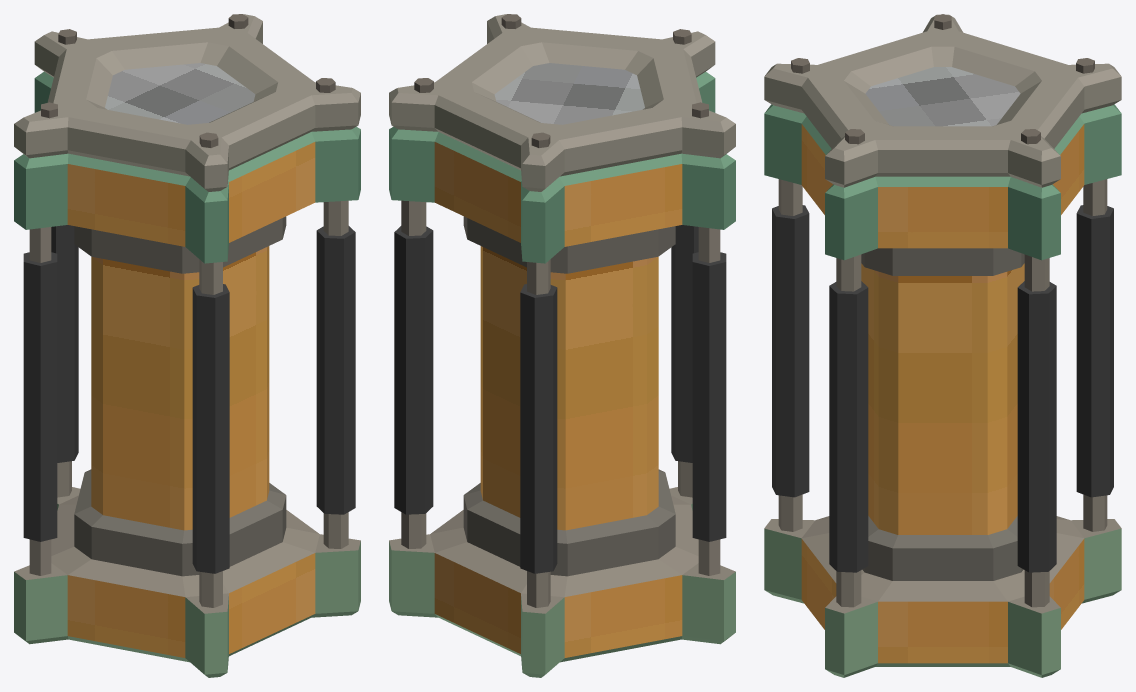
File: entity112044.glb
3 views of the same model, side by side, from view 1: azimuth 30°, elevation 25°; view 2: azimuth 150°, elevation 25°; view 3: azimuth 270°, elevation 25° (orthographic).
Visible parts, largest first — view 1: node_SM_Prop_Crate_15; view 2: node_SM_Prop_Crate_15; view 3: node_SM_Prop_Crate_15.
Part boxes in pixels (bbox=[...]): node_SM_Prop_Crate_15: bbox=[14, 14, 360, 677]; node_SM_Prop_Crate_15: bbox=[389, 14, 735, 677]; node_SM_Prop_Crate_15: bbox=[764, 14, 1121, 677].
Bounding box in the file's own units: 0.9171 × 1.59 × 0.9643.
2 materials, 2 textured.
